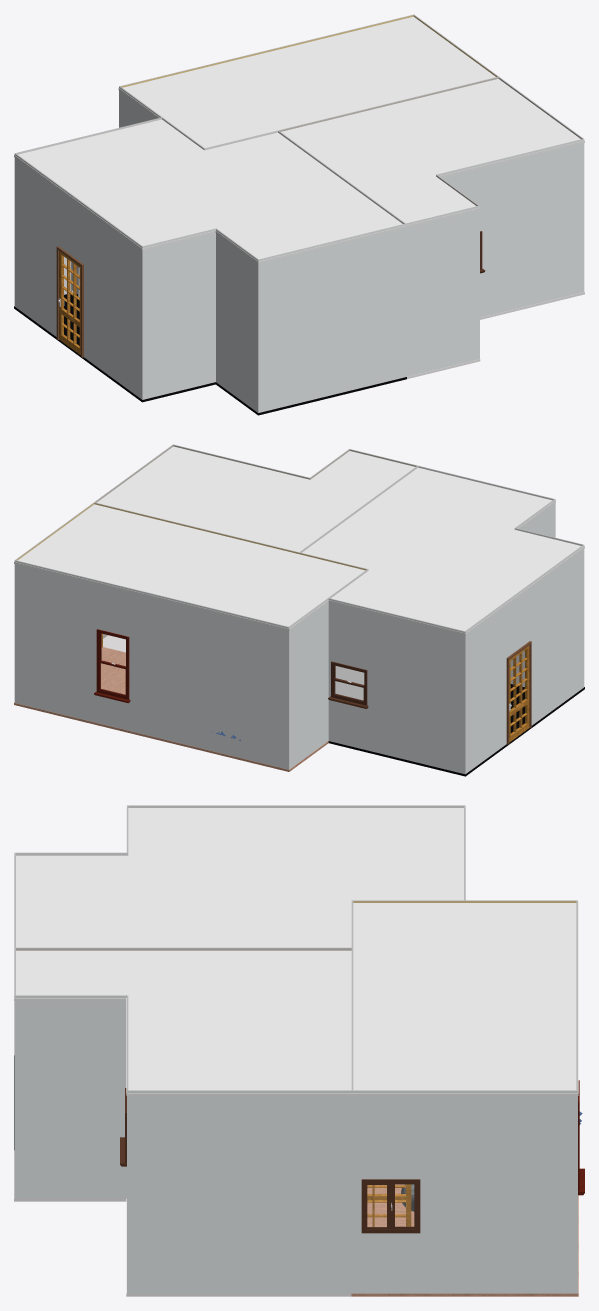
The model's file is ProcTHOR-Train-32.glb.
3 renders of one model, top to bottom at view 1: azimuth 30°, elevation 25°; view 2: azimuth 150°, elevation 25°; view 3: azimuth 270°, elevation 25°, orthographic. The views are drawn at different scales.
Visible parts, largest first — view 1: Ceiling#room|6|c, Ceiling#room|2|c, WallInside#wall|exterior|5.23|8.72|8.72|8.72, Ceiling#room|7|c, WallInside#wall|exterior|10.46|1.74|10.46|6.98, WallInside#wall|exterior|0.00|6.98|3.49|6.98, WallInside#wall|exterior|3.49|8.72|5.23|8.72, WallInside#wall|exterior|8.72|6.98|10.46|6.98, WallInside#wall|exterior|8.72|6.98|8.72|8.72, Doorway_5, Floor#room|6|f, WallInside#wall|exterior|6.98|0.00|6.98|1.74 (+3 smaller); view 2: WallInside#wall|exterior|0.00|0.00|6.98|0.00, Ceiling#room|6|c, Ceiling#room|2|c, WallInside#wall|exterior|6.98|1.74|10.46|1.74, Ceiling#room|7|c, WallInside#wall|exterior|10.46|1.74|10.46|6.98, WallInside#wall|exterior|6.98|0.00|6.98|1.74, Doorway_5, Floor#room|2|f, Window_Hung_32x60, Floor#room|6|f, WallInside#wall|6|6.98|1.74|6.98|3.49 (+3 smaller); view 3: Ceiling#room|6|c, WallInside#wall|exterior|0.00|3.49|0.00|6.98, Ceiling#room|2|c, WallInside#wall|exterior|0.00|0.00|0.00|3.49, Ceiling#room|7|c, WallInside#wall|exterior|3.49|6.98|3.49|8.72, Floor#room|2|f, Window_Slider_36x36, Floor#room|7|f, WallInside#wall|6|10.46|1.74|10.46|6.98, WallInside#wall|7|5.23|3.49|5.23|8.72, Doorway_Door_5b.
Boxes of the visible parts, x1,y1,x2,y2 form: Ceiling#room|6|c: [14, 119, 406, 263]; Ceiling#room|2|c: [118, 16, 497, 150]; WallInside#wall|exterior|5.23|8.72|8.72|8.72: [258, 224, 405, 412]; Ceiling#room|7|c: [281, 79, 584, 227]; WallInside#wall|exterior|10.46|1.74|10.46|6.98: [14, 153, 142, 399]; WallInside#wall|exterior|0.00|6.98|3.49|6.98: [437, 139, 584, 317]; WallInside#wall|exterior|3.49|8.72|5.23|8.72: [405, 206, 479, 376]; WallInside#wall|exterior|8.72|6.98|10.46|6.98: [142, 229, 215, 399]; WallInside#wall|exterior|8.72|6.98|8.72|8.72: [216, 229, 258, 412]; Doorway_5: [56, 246, 83, 357]; Floor#room|6|f: [14, 294, 406, 415]; WallInside#wall|exterior|6.98|0.00|6.98|1.74: [119, 86, 161, 127]; WallInside#wall|exterior|0.00|0.00|6.98|0.00: [14, 560, 288, 769]; Ceiling#room|6|c: [302, 467, 584, 635]; Ceiling#room|2|c: [14, 504, 368, 630]; WallInside#wall|exterior|6.98|1.74|10.46|1.74: [328, 598, 465, 773]; Ceiling#room|7|c: [96, 446, 417, 551]; WallInside#wall|exterior|10.46|1.74|10.46|6.98: [465, 545, 584, 773]; WallInside#wall|exterior|6.98|0.00|6.98|1.74: [289, 598, 328, 769]; Doorway_5: [506, 641, 531, 744]; Floor#room|2|f: [14, 647, 328, 771]; Window_Hung_32x60: [94, 629, 130, 703]; Floor#room|6|f: [328, 684, 584, 776]; WallInside#wall|6|6.98|1.74|6.98|3.49: [329, 569, 368, 700]; Ceiling#room|6|c: [14, 807, 465, 949]; WallInside#wall|exterior|0.00|3.49|0.00|6.98: [127, 1090, 352, 1293]; Ceiling#room|2|c: [351, 902, 578, 1095]; WallInside#wall|exterior|0.00|0.00|0.00|3.49: [351, 1090, 577, 1293]; Ceiling#room|7|c: [14, 950, 353, 1095]; WallInside#wall|exterior|3.49|6.98|3.49|8.72: [14, 995, 127, 1198]; Floor#room|2|f: [351, 1184, 578, 1296]; Window_Slider_36x36: [361, 1179, 420, 1233]; Floor#room|7|f: [14, 1150, 351, 1296]; WallInside#wall|6|10.46|1.74|10.46|6.98: [127, 805, 464, 807]; WallInside#wall|7|5.23|3.49|5.23|8.72: [15, 948, 352, 950]; Doorway_Door_5b: [367, 1184, 411, 1226].
Size of what is drawn, in the model's own units: 10.58 by 3.52 by 8.86.
241 materials, 83 textured.
